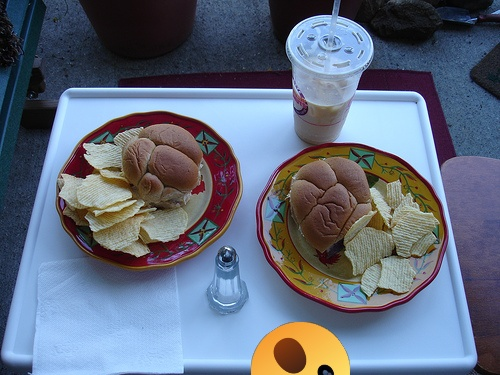wow: (251, 322, 350, 375)
